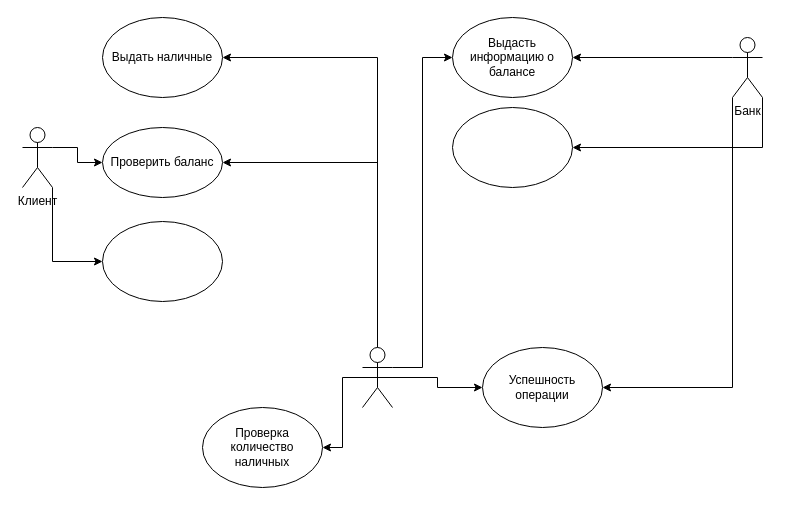
Some shapes in this 788 by 505 pixel diagram are drawn without their labels. The shapes that lost their labels are listed below. From the top down, each one's centre as x and y in pixels, then its label:
At point (512, 147): "Обновить информацию счёта".
At point (162, 261): "Внести наличные".
At point (377, 377): "Банкомат".
